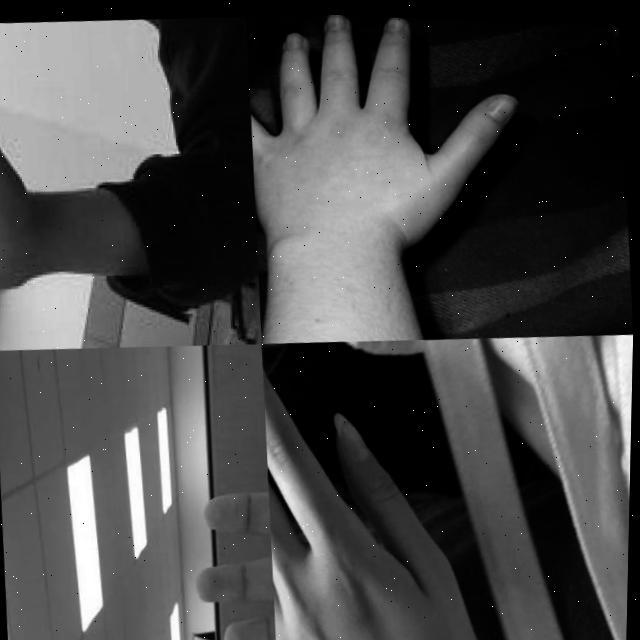no-gloves: (258, 324, 502, 640), (242, 9, 530, 268), (177, 344, 284, 640), (0, 58, 119, 300)
